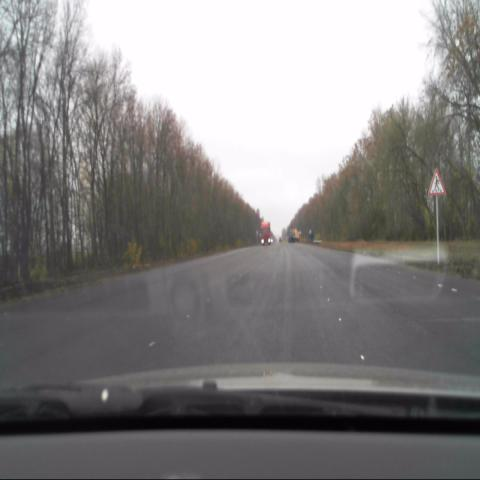1_22: (429, 169, 444, 195)
